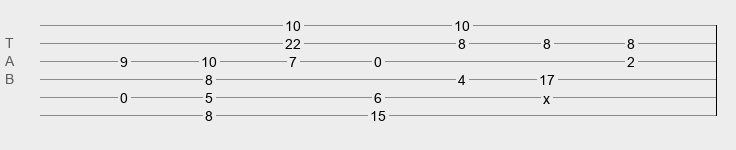0: (120, 90, 128, 100), (374, 54, 382, 64)
10: (201, 54, 217, 64), (285, 18, 301, 28), (454, 18, 470, 28)
15: (370, 108, 386, 118)
17: (539, 72, 555, 82)
2: (627, 54, 635, 64)
22: (285, 36, 301, 46)
4: (458, 72, 466, 82)
5: (205, 90, 213, 100)
6: (374, 90, 382, 100)
7: (289, 54, 297, 64)
8: (205, 108, 213, 118), (205, 72, 213, 82), (458, 36, 466, 46), (543, 36, 551, 46), (627, 36, 635, 46)
9: (120, 54, 128, 64)
x: (543, 91, 550, 99)
